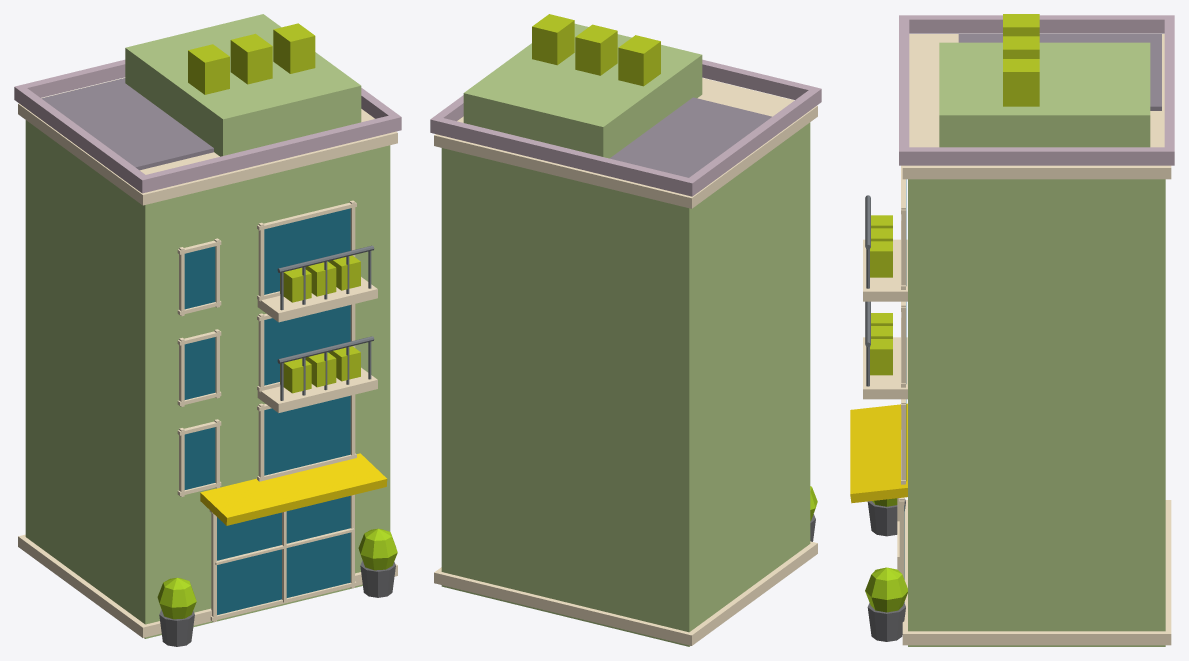
File: Building_Green_Rooftop_Garden.glb
3 renders of one model, left to right at view 1: azimuth 30°, elevation 25°; view 2: azimuth 150°, elevation 25°; view 3: azimuth 270°, elevation 25°, orthographic. The views are drawn at different scales.
Visible parts, largest first — view 1: Building_Green_Rooftop_Garden; view 2: Building_Green_Rooftop_Garden; view 3: Building_Green_Rooftop_Garden.
Part boxes in pixels (<box>): Building_Green_Rooftop_Garden: <box>14,14,401,646</box>; Building_Green_Rooftop_Garden: <box>430,14,821,646</box>; Building_Green_Rooftop_Garden: <box>850,14,1174,646</box>.
Bounding box in the file's own units: 4.13 × 7.89 × 4.15.
